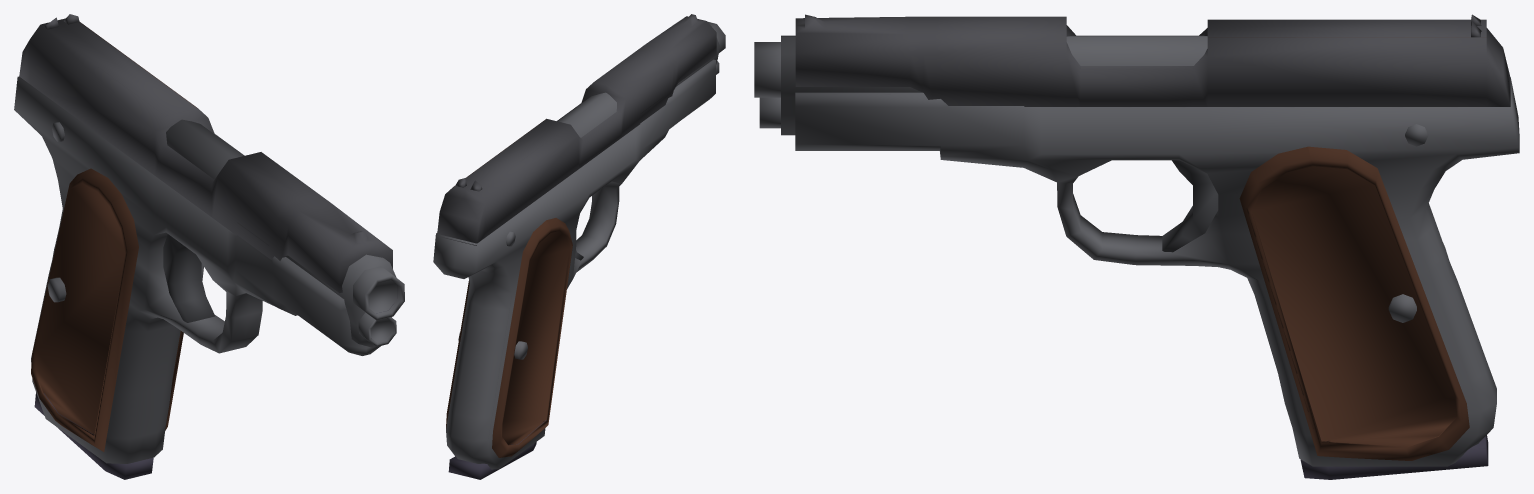
File: pistol.fbx
3 views of the same model, side by side, from view 1: azimuth 30°, elevation 25°; view 2: azimuth 150°, elevation 25°; view 3: azimuth 270°, elevation 25° (orthographic). The views are drawn at different scales.
Visible parts, largest first — view 1: Handle, Chamber, Trugger, Magazine; view 2: Handle, Chamber, Magazine; view 3: Handle, Chamber, Trugger, Magazine.
Boxes of the visible parts, x1,y1,x2,y2 form: Handle: [14, 76, 404, 463]; Chamber: [19, 14, 392, 293]; Trugger: [163, 234, 214, 322]; Magazine: [34, 392, 153, 479]; Handle: [433, 22, 725, 469]; Chamber: [437, 14, 716, 245]; Magazine: [448, 442, 536, 479]; Handle: [754, 35, 1519, 466]; Chamber: [795, 14, 1510, 106]; Trugger: [1162, 160, 1218, 252]; Magazine: [1300, 435, 1488, 479].
Bounding box in the file's own units: 11.5 × 55.62 × 84.89.
